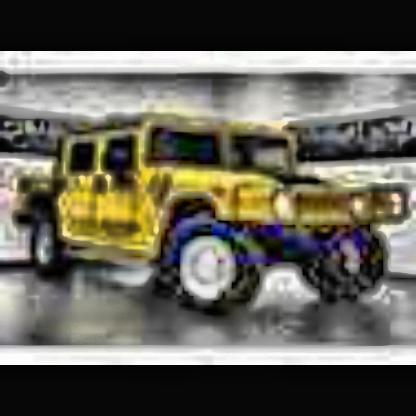AM General Hummer SUV 2000: (18, 117, 416, 329)
